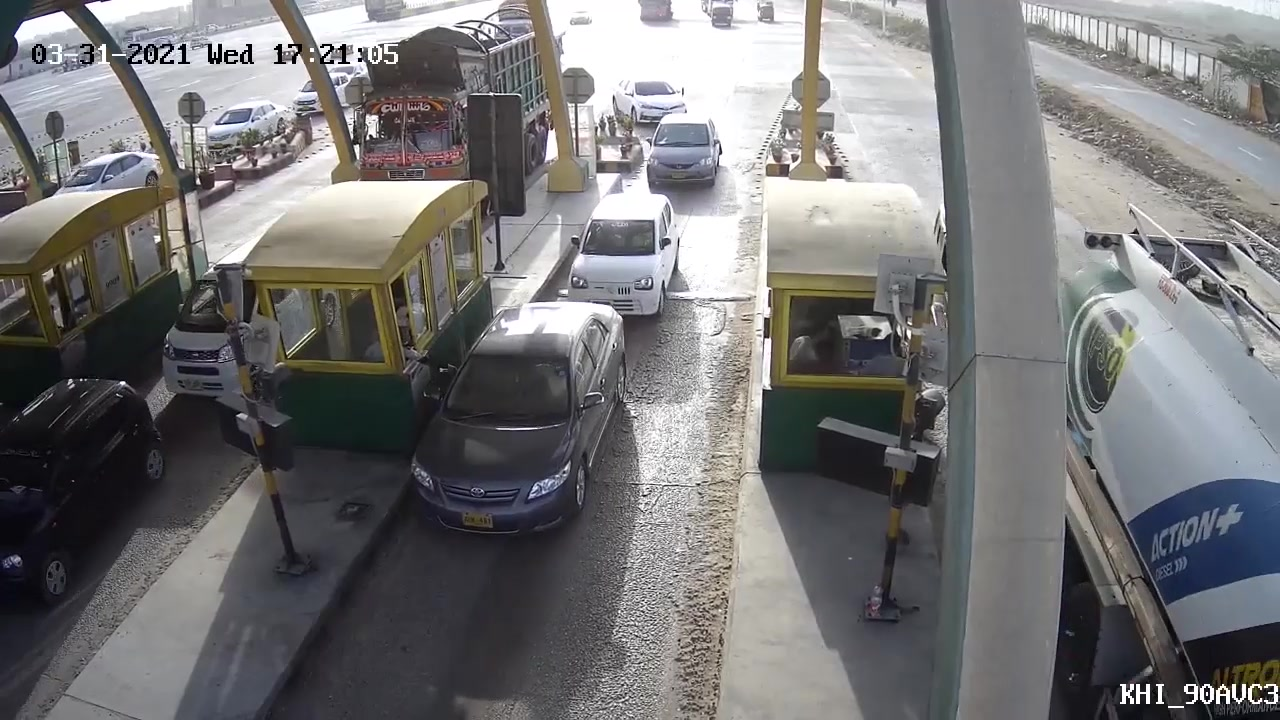F1: (387, 300, 639, 548), (554, 184, 690, 328)
